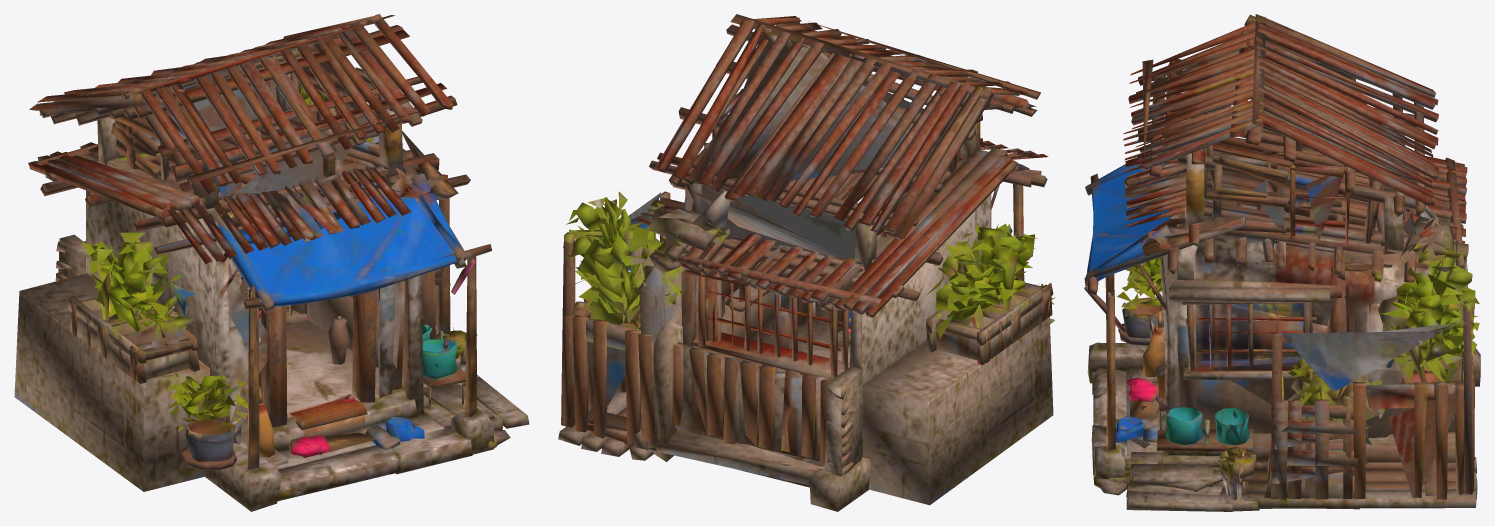
File: house_2.glb
The picture shows the model from 3 angles, left to right: view 1: azimuth 30°, elevation 25°; view 2: azimuth 150°, elevation 25°; view 3: azimuth 270°, elevation 25°; orthographic projection. The views are drawn at different scales.
Visible parts, largest first — view 1: Mesh0; view 2: Mesh0; view 3: Mesh0.
Part boxes in pixels (box(x1,y1,x2,y2)): Mesh0: box(14, 14, 529, 511); Mesh0: box(558, 14, 1055, 511); Mesh0: box(1084, 14, 1480, 511).
Size of the model in its own units: 1 by 0.9964 by 1.
Materials: 1 (1 with a texture image).
